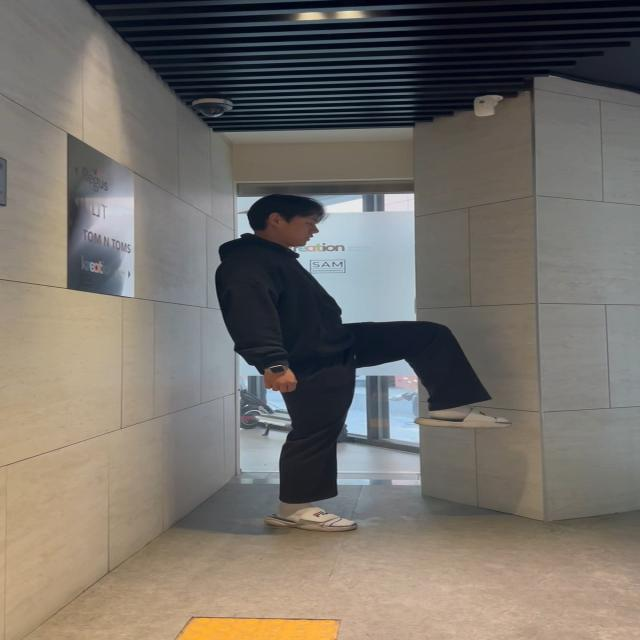knee: (316, 298, 510, 437)
